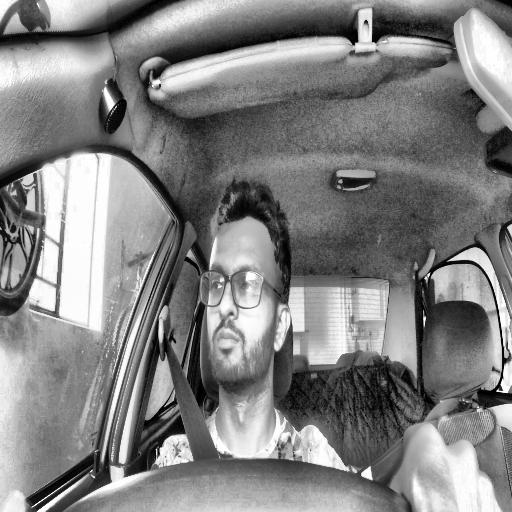awake: (200, 181, 291, 394)
